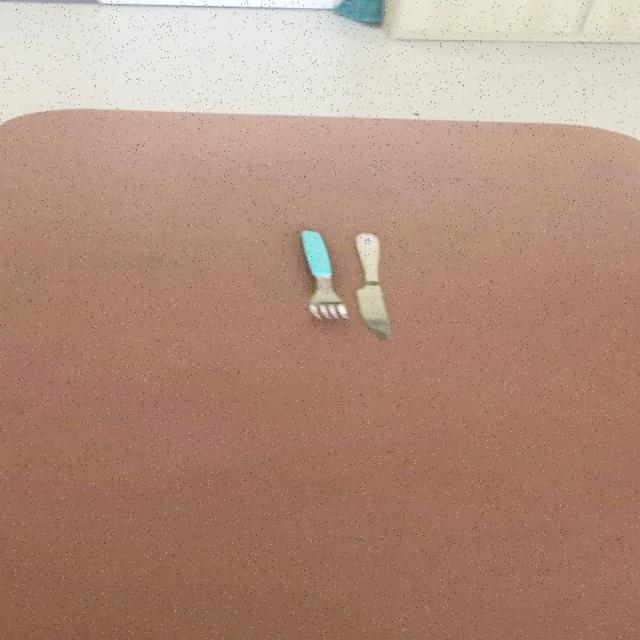Fork: (302, 230, 351, 320), (356, 232, 394, 340)
Knife: (302, 230, 352, 320), (356, 231, 394, 340)
